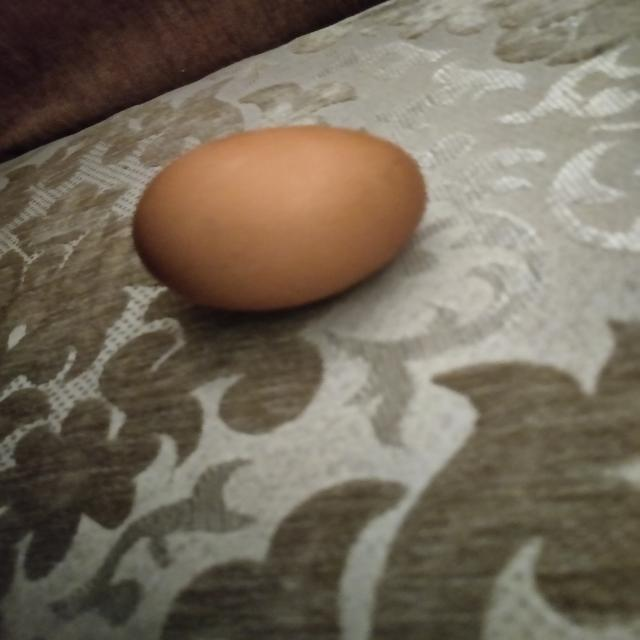Egg: (118, 120, 436, 317)
